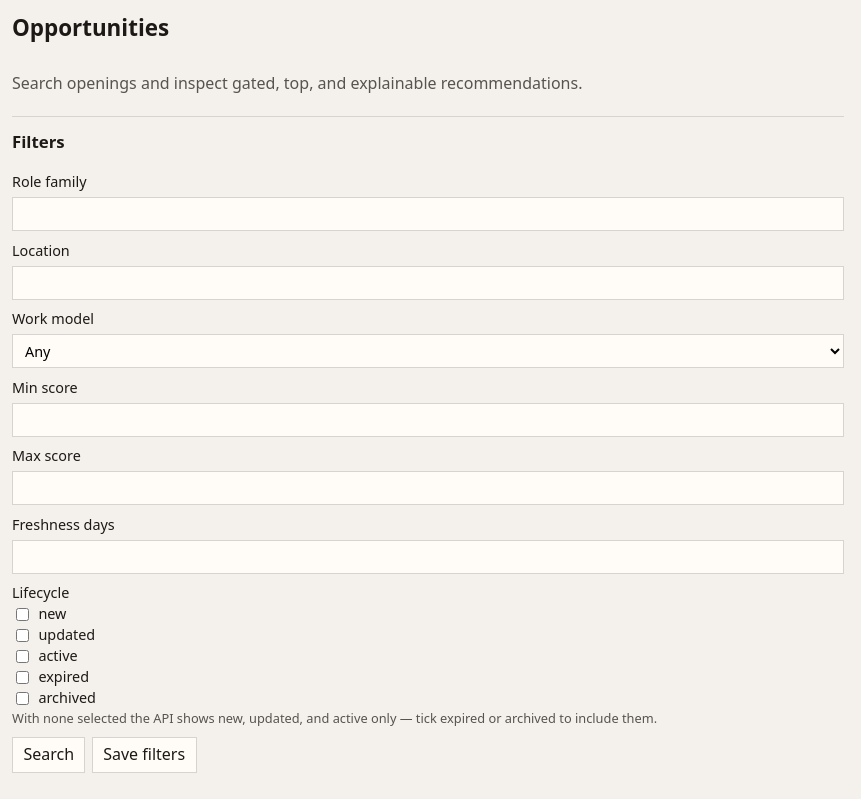
OpportunitiesPage › saves the selected lifecycle states through PUT filter-state
Check: the button "Search" is enabled, box [12,737,85,773]
Step 1. Click the checkbox labelled "archived" → (22, 698), box [16,692,29,705]
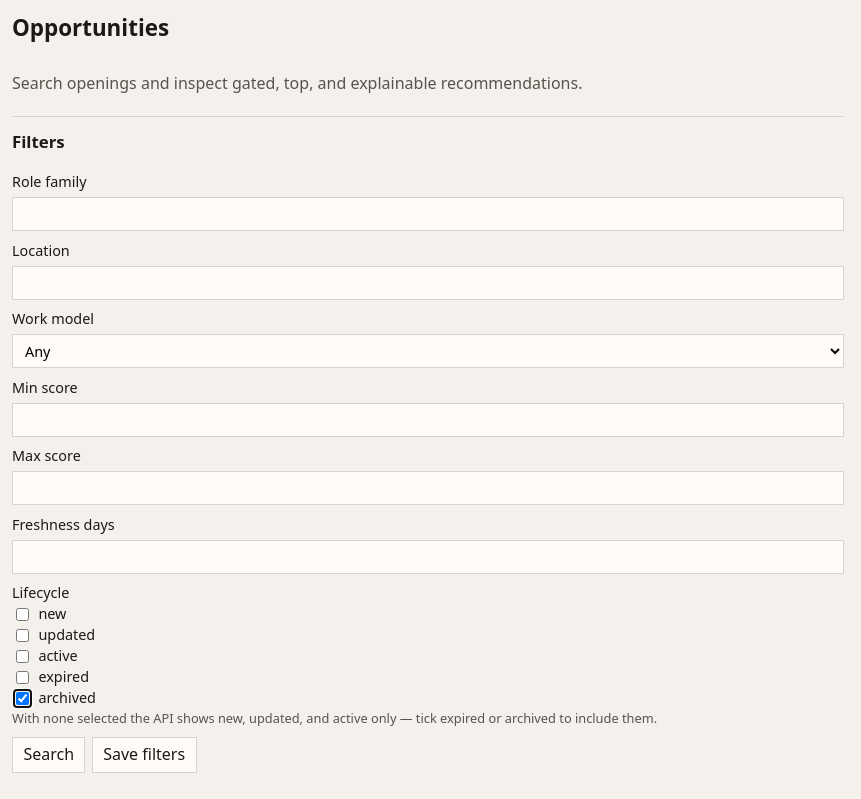
Step 2. Click the button "Save filters" → (144, 755), box [92,737,196,773]
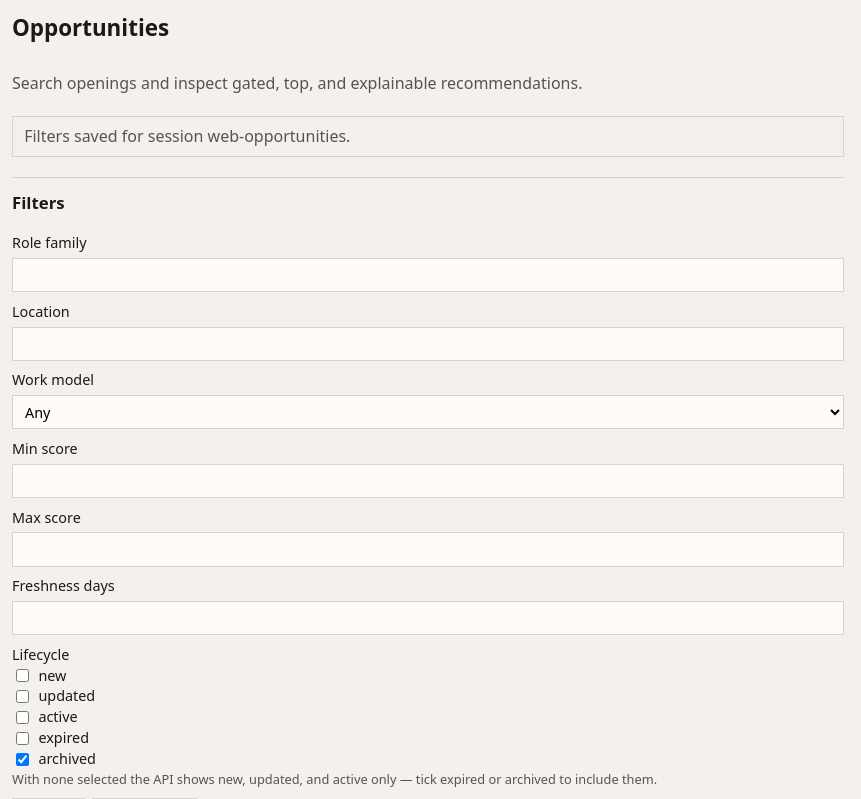
Check: the message "Filters saved for session web-opportunities." is shown, box [12,116,844,157]
